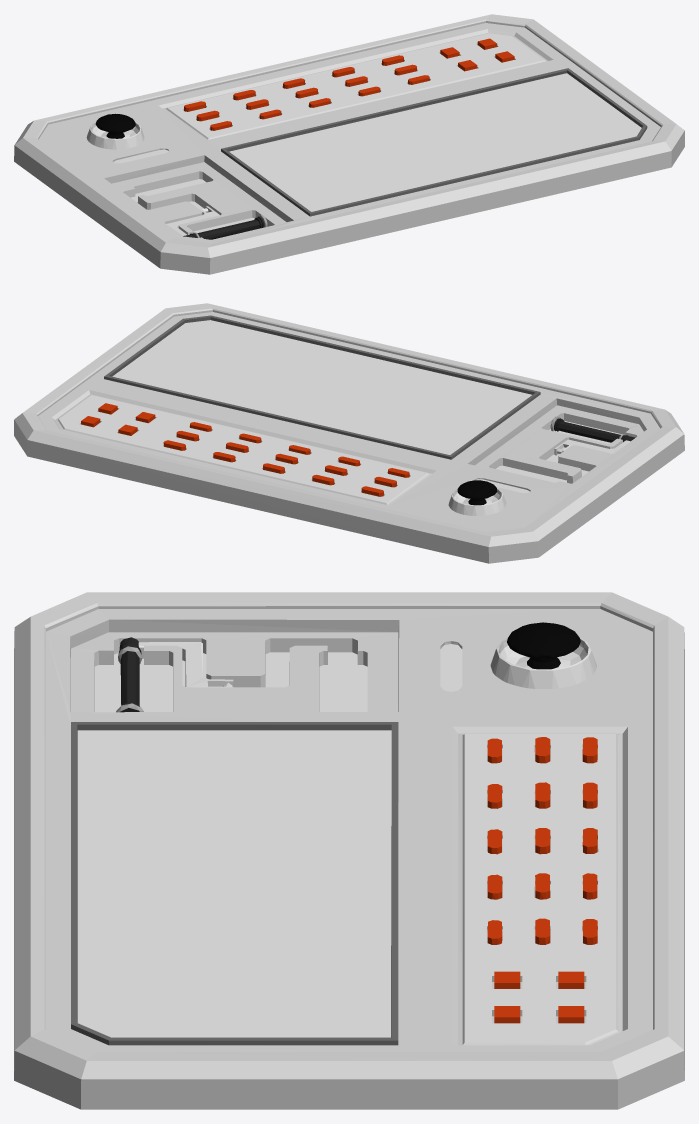
Rendered from ControlPanelLoPoly.fbx.
The picture shows the model from 3 angles, top to bottom: view 1: azimuth 30°, elevation 25°; view 2: azimuth 150°, elevation 25°; view 3: azimuth 270°, elevation 25°; orthographic projection. The views are drawn at different scales.
Parts seen in each view (by area): view 1: JoinedPanel; view 2: JoinedPanel; view 3: JoinedPanel.
Part boxes in pixels (<box>): JoinedPanel: <box>14,14,684,274</box>; JoinedPanel: <box>14,303,684,563</box>; JoinedPanel: <box>14,592,684,1109</box>.
Bounding box in the file's own units: 2047 × 177 × 1235.
